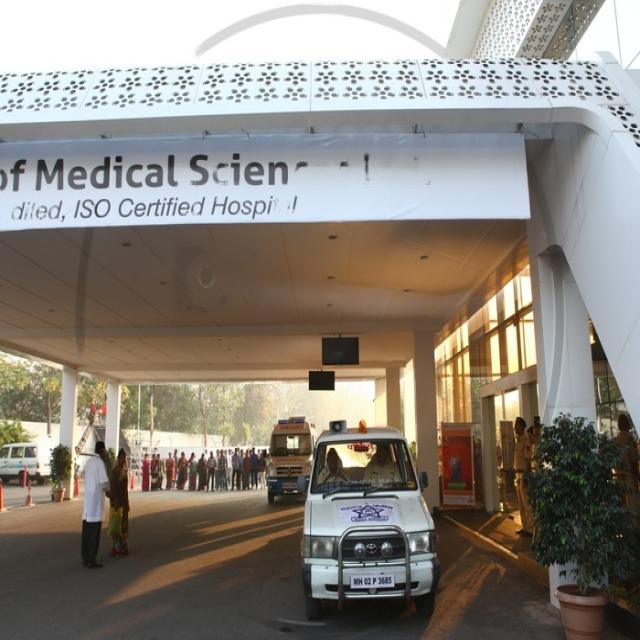car: (299, 428, 440, 619)
emergency: (266, 416, 315, 502)
